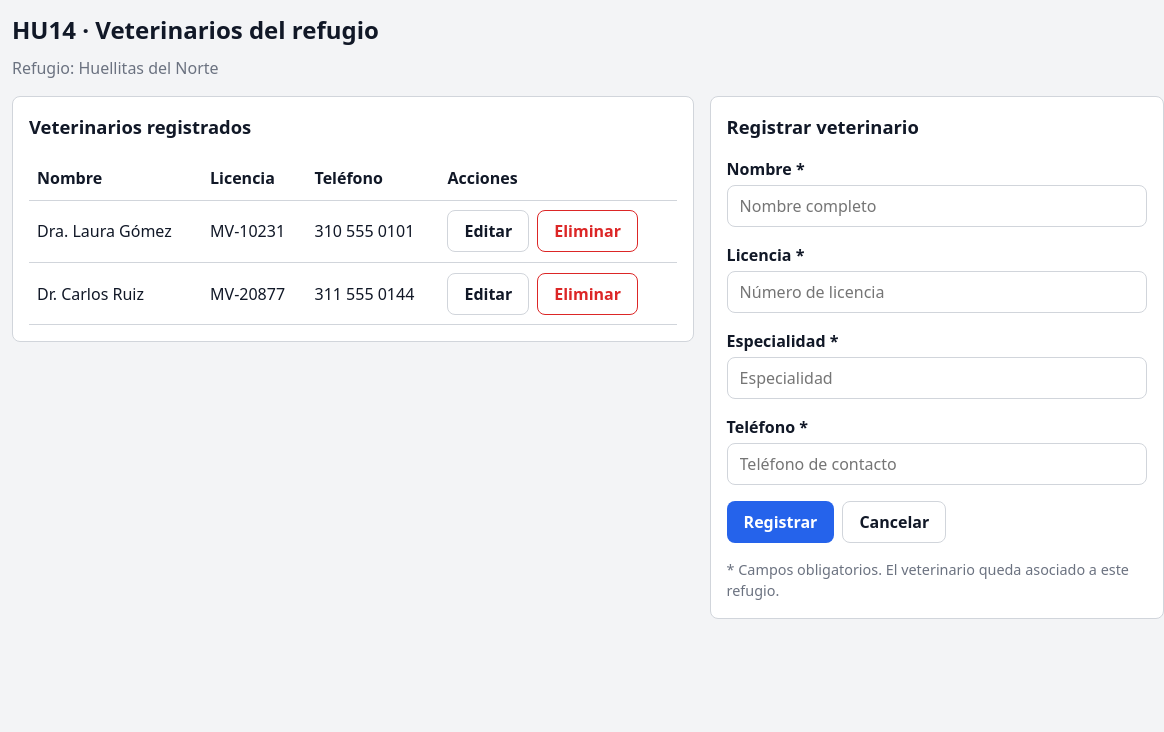
Test case: VeterinariansPage › goes back to the register form when cancelling an edit
Expected: the text "Refugio: Huellitas del Norte" is shown, [12, 57, 219, 79]
Click the button with aria-label "Editar a Dr. Carlos Ruiz": {"x": 488, "y": 294} [447, 273, 529, 315]
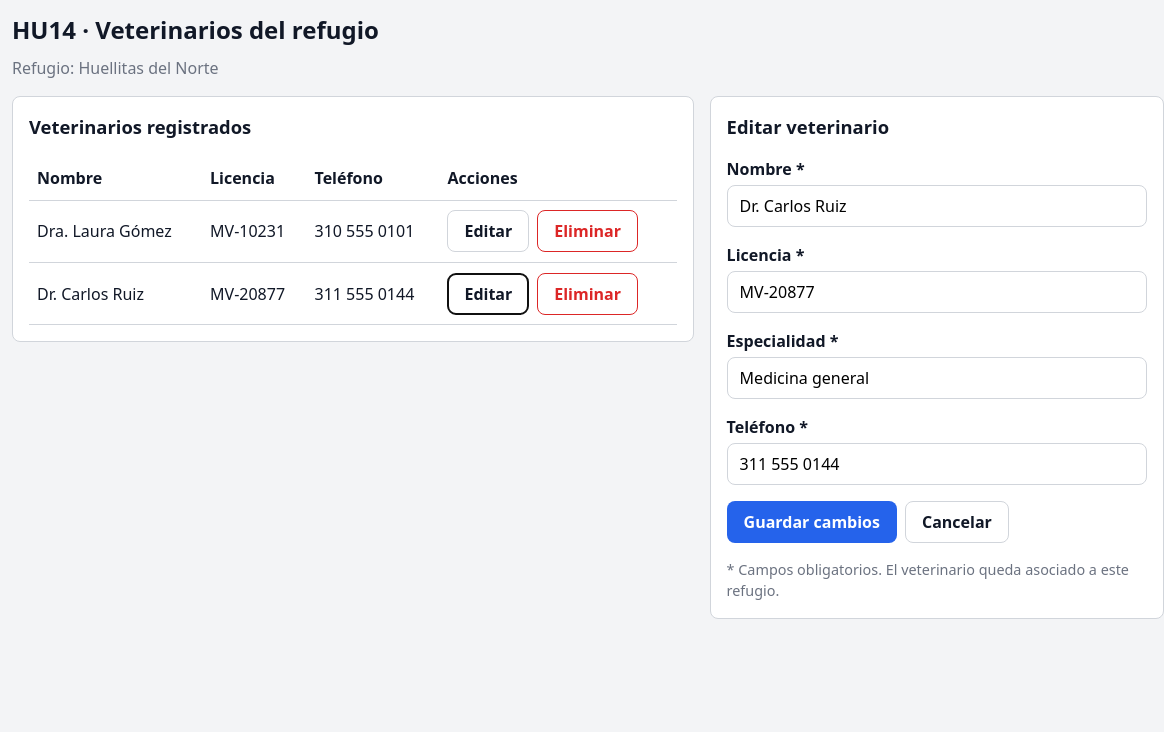
Click the button "Cancelar": {"x": 957, "y": 522} [905, 501, 1009, 543]
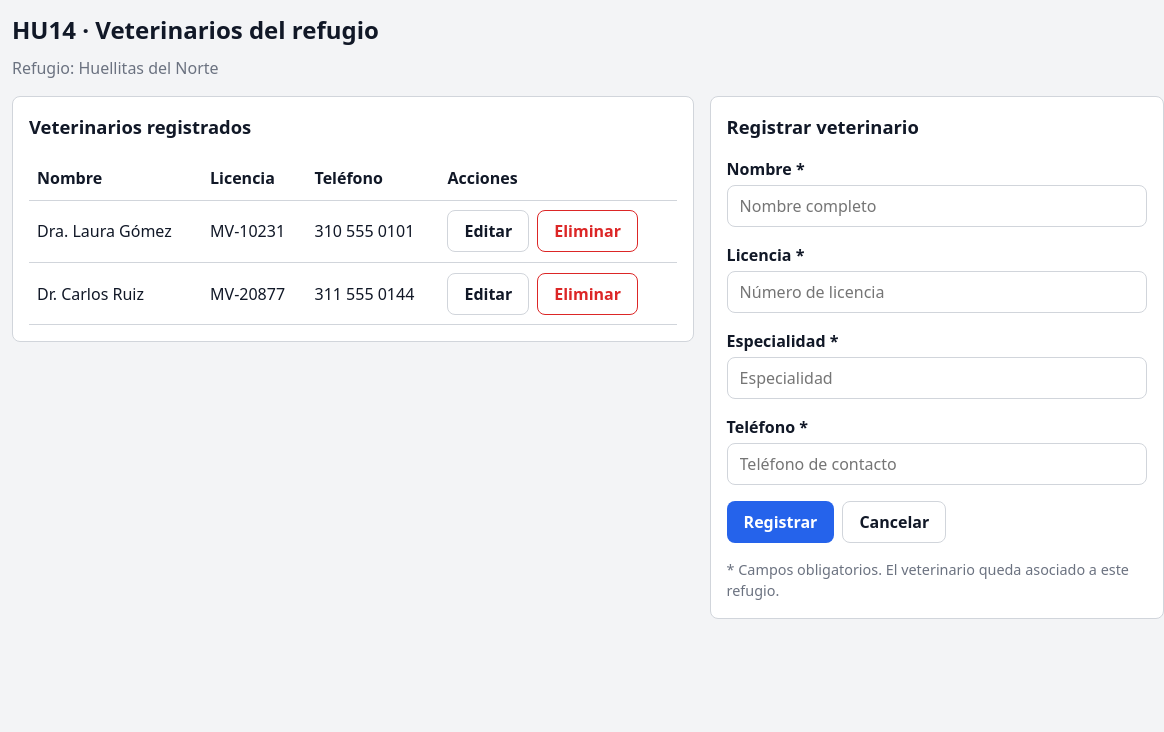
Expected: the heading "Registrar veterinario" is shown, [727, 114, 919, 139]
Expected: the field labelled "Nombre *" is empty, [727, 185, 1147, 227]
